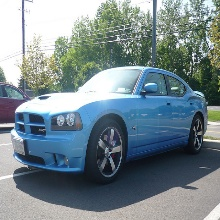no damage: (10, 66, 208, 183)
